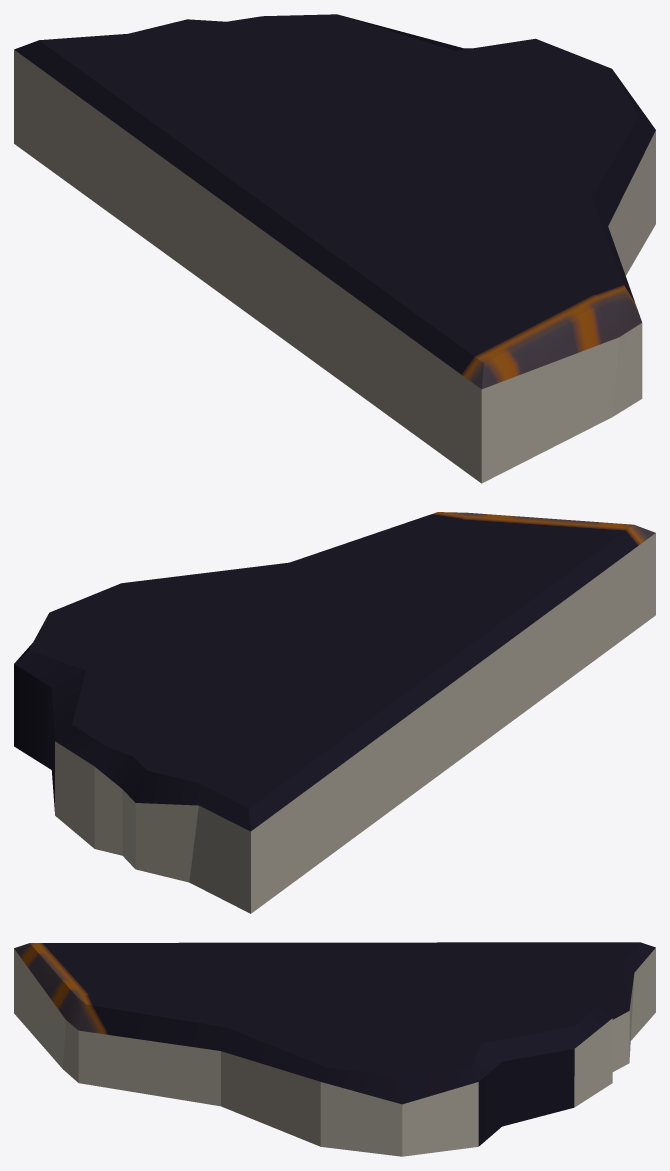
File: SM_FixedRock.fbx
The picture shows the model from 3 angles, top to bottom: view 1: azimuth 30°, elevation 25°; view 2: azimuth 150°, elevation 25°; view 3: azimuth 270°, elevation 25°; orthographic projection. The views are drawn at different scales.
Visible parts, largest first — view 1: Rock1; view 2: Rock1; view 3: Rock1.
Boxes of the visible parts, x1=… form: Rock1: x1=14, y1=14, x2=655, y2=483; Rock1: x1=14, y1=512, x2=655, y2=913; Rock1: x1=14, y1=942, x2=655, y2=1156.
Size of the model in its own units: 1343 by 325 by 2525.
Materials: 1 (1 with a texture image).
